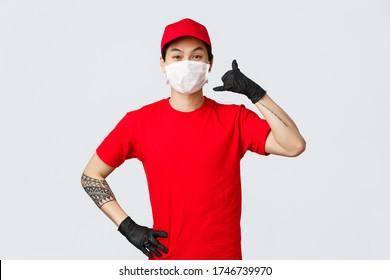gloves: (213, 58, 268, 106), (117, 216, 170, 259)
